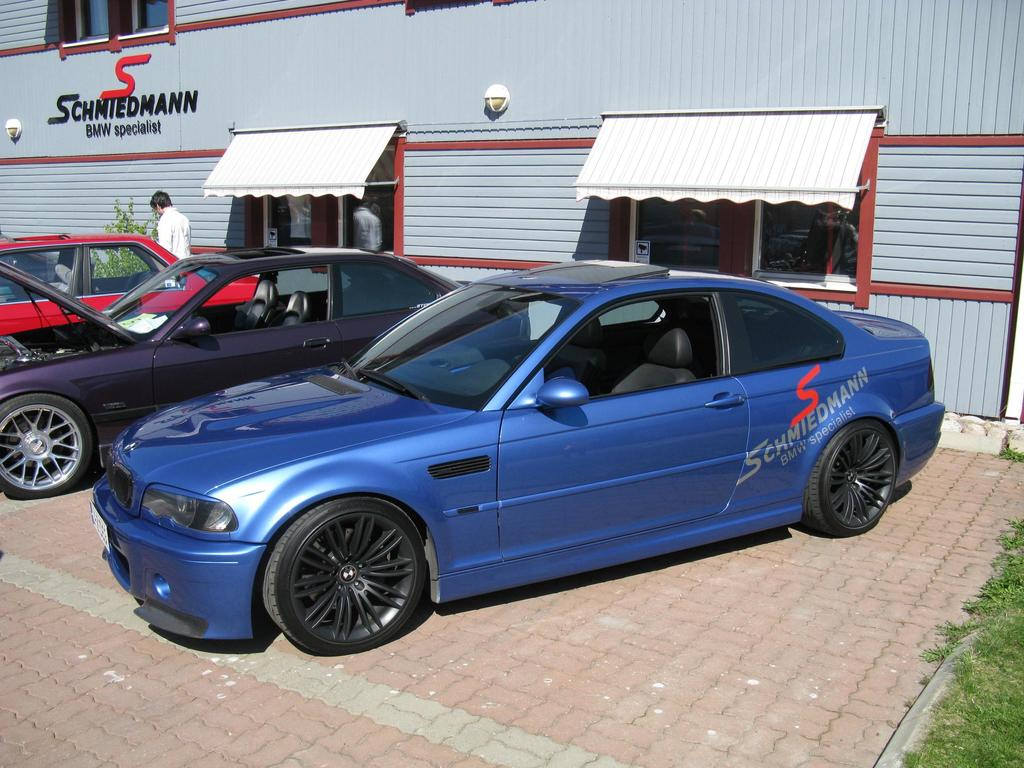Car: (83, 258, 944, 663), (0, 258, 532, 496), (0, 232, 264, 335)
